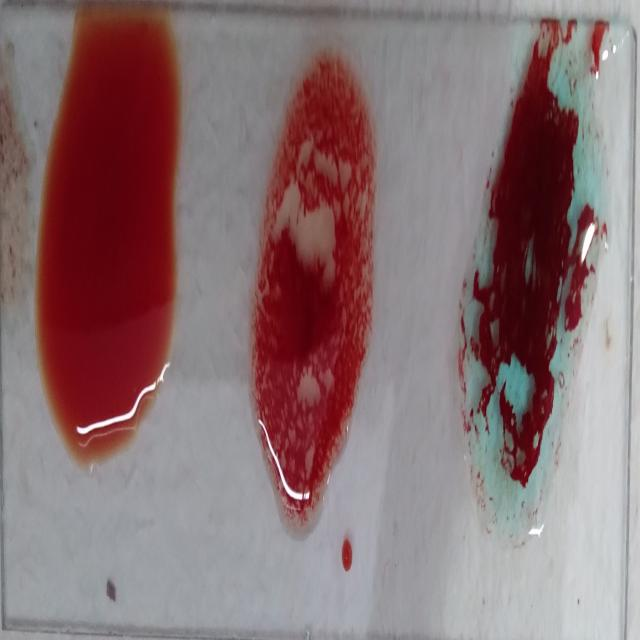A: (470, 6, 597, 548)
D: (255, 52, 379, 557)
